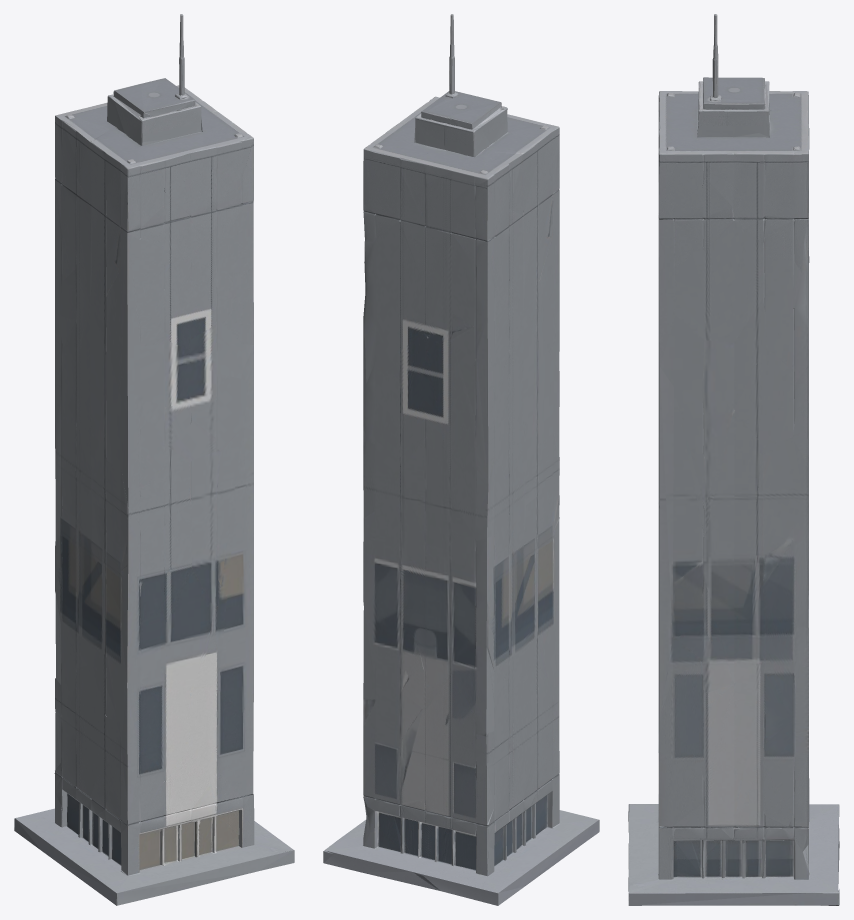
The model's file is building-corporate.glb.
3 renders of one model, left to right at view 1: azimuth 30°, elevation 25°; view 2: azimuth 150°, elevation 25°; view 3: azimuth 270°, elevation 25°, orthographic. The views are drawn at different scales.
Size of the model in its own units: 0.4252 by 1.9 by 0.4255.
Materials: 1 (1 with a texture image).
